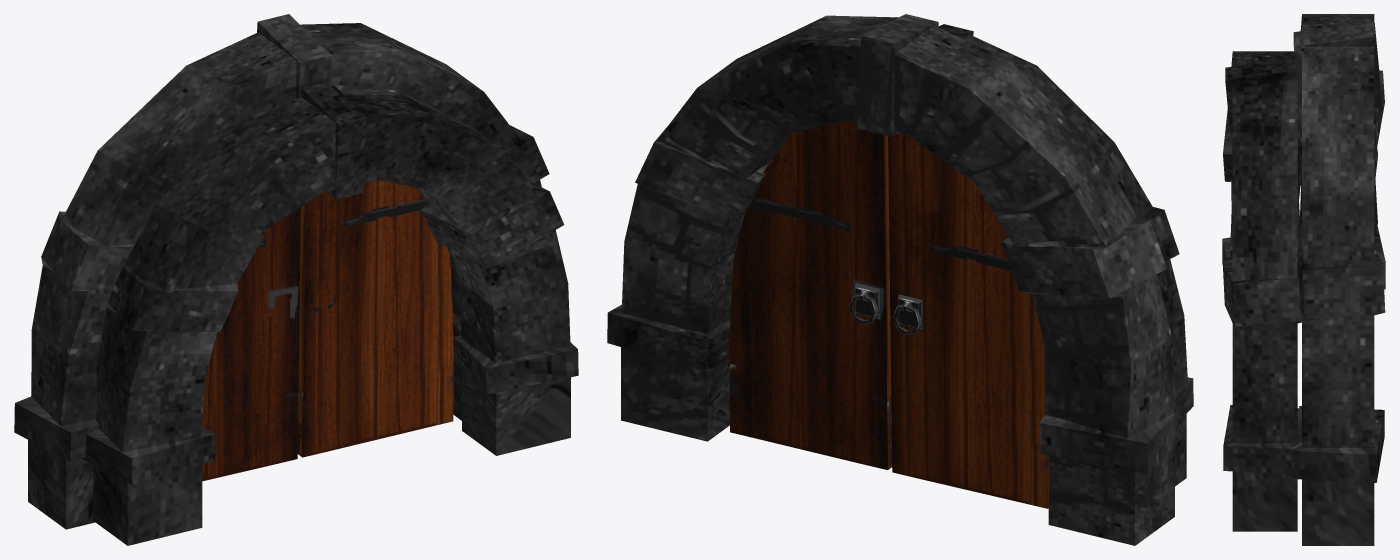
The model's file is bigdoor.glb.
3 views of the same model, side by side, from view 1: azimuth 30°, elevation 25°; view 2: azimuth 150°, elevation 25°; view 3: azimuth 270°, elevation 25° (orthographic). The views are drawn at different scales.
Visible parts, largest first — view 1: polySurface11, polySurface9, polySurface18; view 2: polySurface11, polySurface9, polySurface18; view 3: polySurface11.
Boxes of the visible parts, x1,y1,x2,y2 form: polySurface11: [14, 14, 578, 545]; polySurface9: [297, 179, 453, 457]; polySurface18: [201, 207, 300, 481]; polySurface11: [607, 14, 1193, 545]; polySurface9: [729, 121, 891, 469]; polySurface18: [888, 133, 1048, 508]; polySurface11: [1222, 14, 1385, 545].
Bounding box in the file's own units: 5.36 × 4.21 × 1.55.
Materials: 3 (3 with a texture image).
